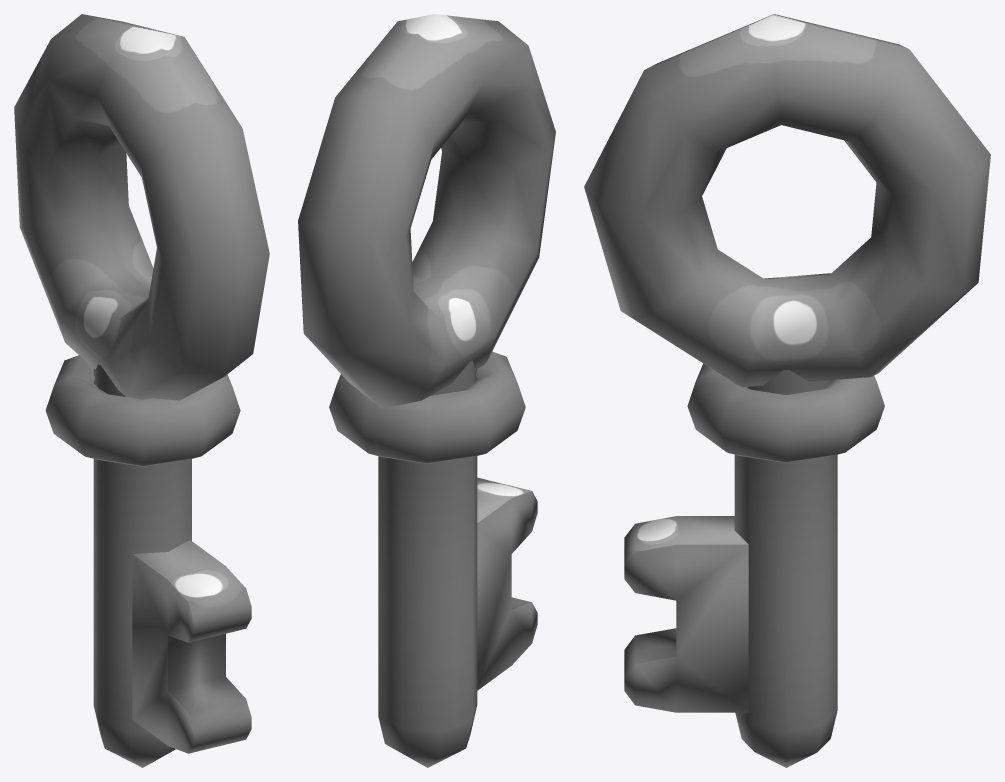
The model's file is Key.fbx.
The picture shows the model from 3 angles, left to right: view 1: azimuth 30°, elevation 25°; view 2: azimuth 150°, elevation 25°; view 3: azimuth 270°, elevation 25°; orthographic projection.
Visible parts, largest first — view 1: Key; view 2: Key; view 3: Key.
Boxes of the visible parts, left/top/right/bottom form: Key: left=14, top=14, right=269, bottom=767; Key: left=298, top=14, right=555, bottom=767; Key: left=584, top=14, right=990, bottom=767.
Size of the model in its own units: 37.93 by 162 by 79.31.
